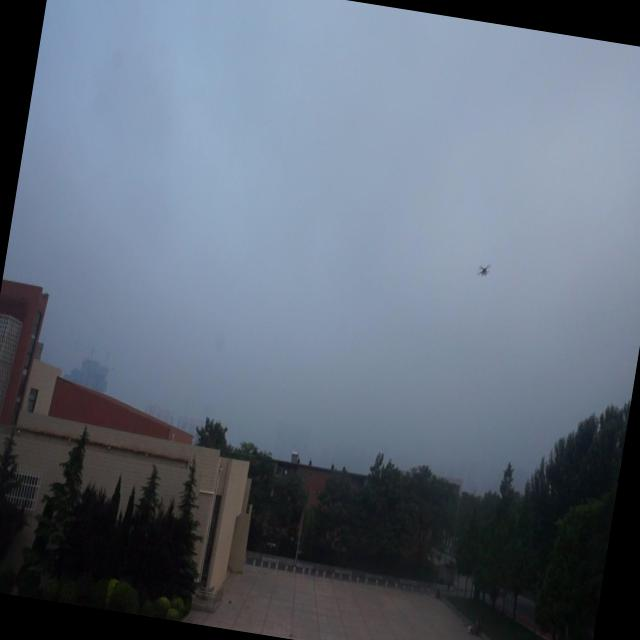drone: (475, 258, 492, 284)
